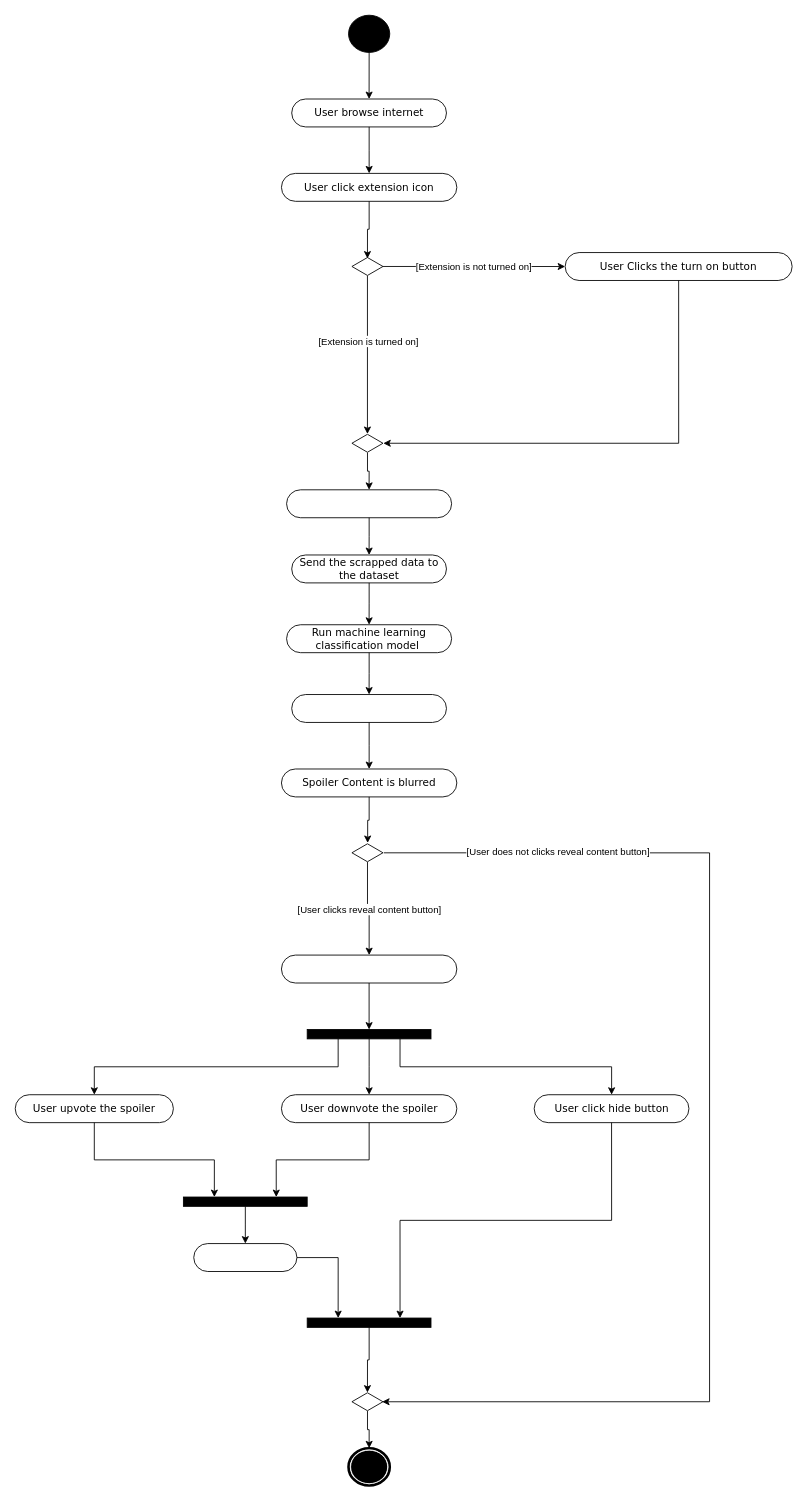
This 807x1501 diagram has some shape labels left out. Each missing label, with the box of its shape:
Model updates: (193, 1243, 297, 1272)
Send the classification data to the extension: (291, 694, 446, 722)
User see the spoiler: (281, 954, 457, 983)
Web scraped the page: (286, 489, 452, 518)
